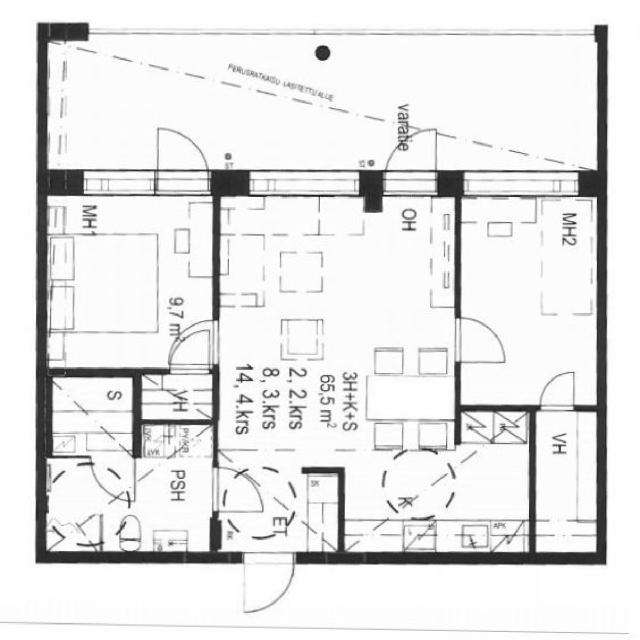door: (158, 120, 208, 195), (385, 120, 435, 195), (244, 552, 294, 612), (212, 466, 264, 512), (454, 317, 506, 362), (168, 320, 218, 364), (90, 455, 132, 500), (170, 329, 210, 374), (540, 372, 573, 411)
